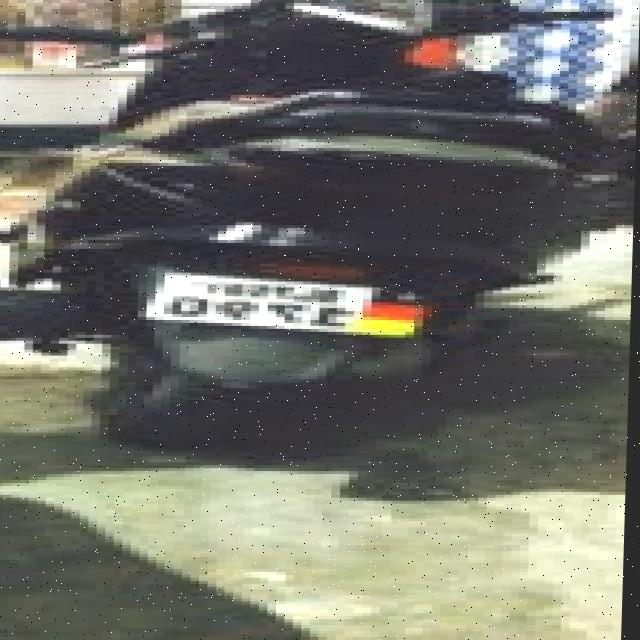plate: (132, 269, 459, 341)
